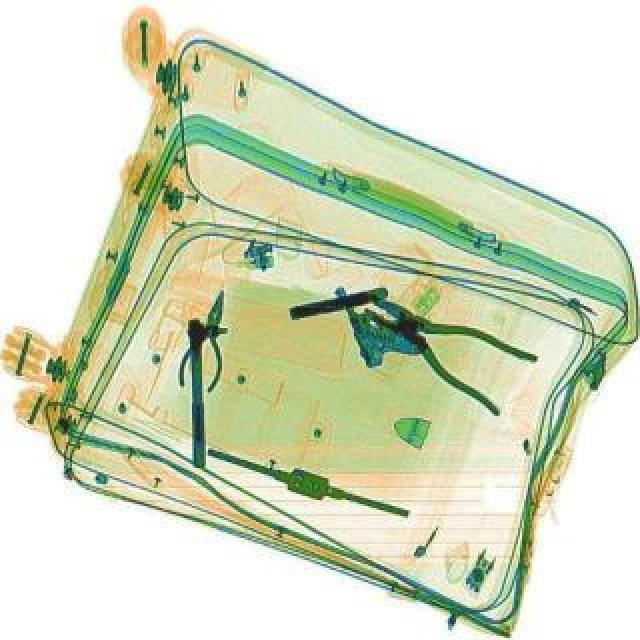gun: (332, 266, 426, 370), (286, 282, 390, 318)
wrench: (348, 268, 540, 416), (174, 282, 246, 390)
